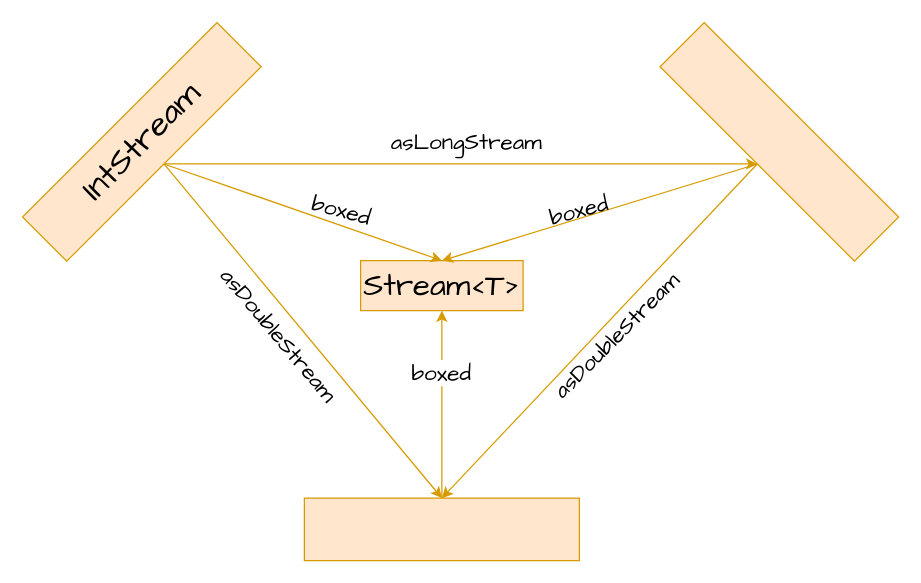
Some shapes in this 921 by 583 pixel diagram are drawn without their labels. The centre of each missing label's shape, as x and y in pixels:
"DoubleStream" goes at point (441, 529).
"LongStream" goes at point (778, 141).
